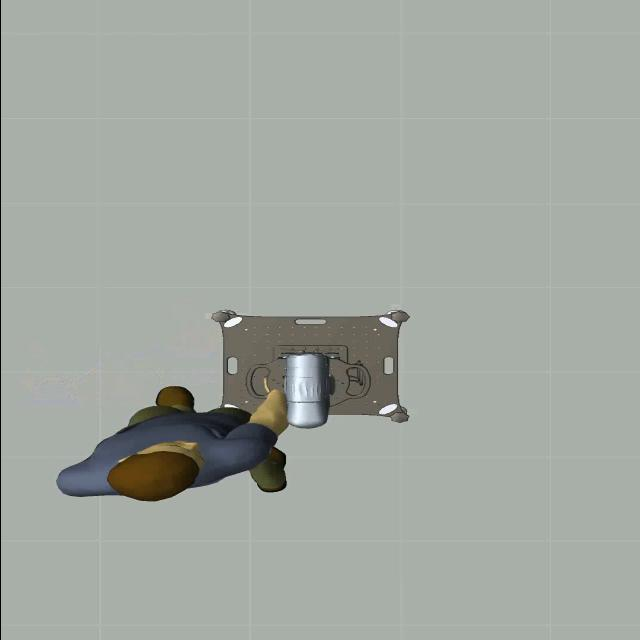human: (53, 386, 289, 502)
robot: (266, 326, 366, 434)
